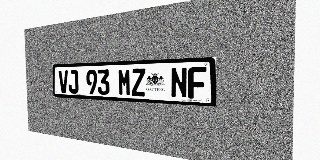3: (97, 69, 109, 95)
9: (86, 69, 97, 94)
F: (188, 67, 206, 99)
J: (68, 70, 78, 94)
M: (118, 69, 131, 96)
N: (170, 67, 187, 98)
V: (58, 70, 68, 93)
Z: (131, 68, 145, 97)
